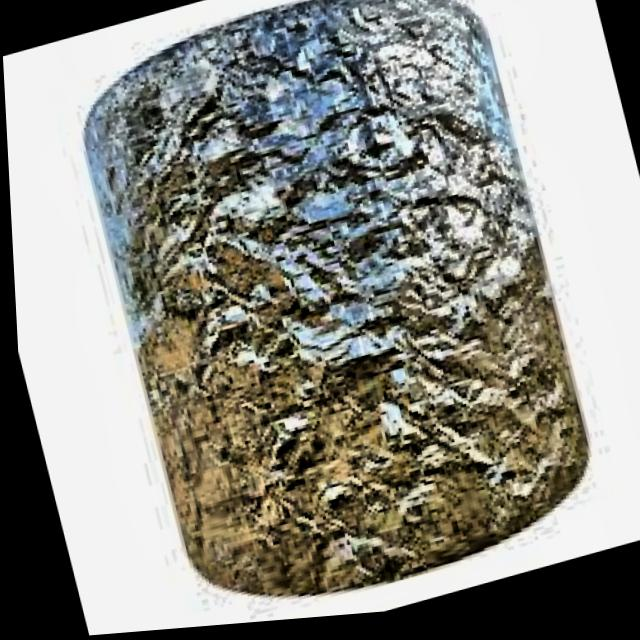Foil: (36, 0, 637, 638)
